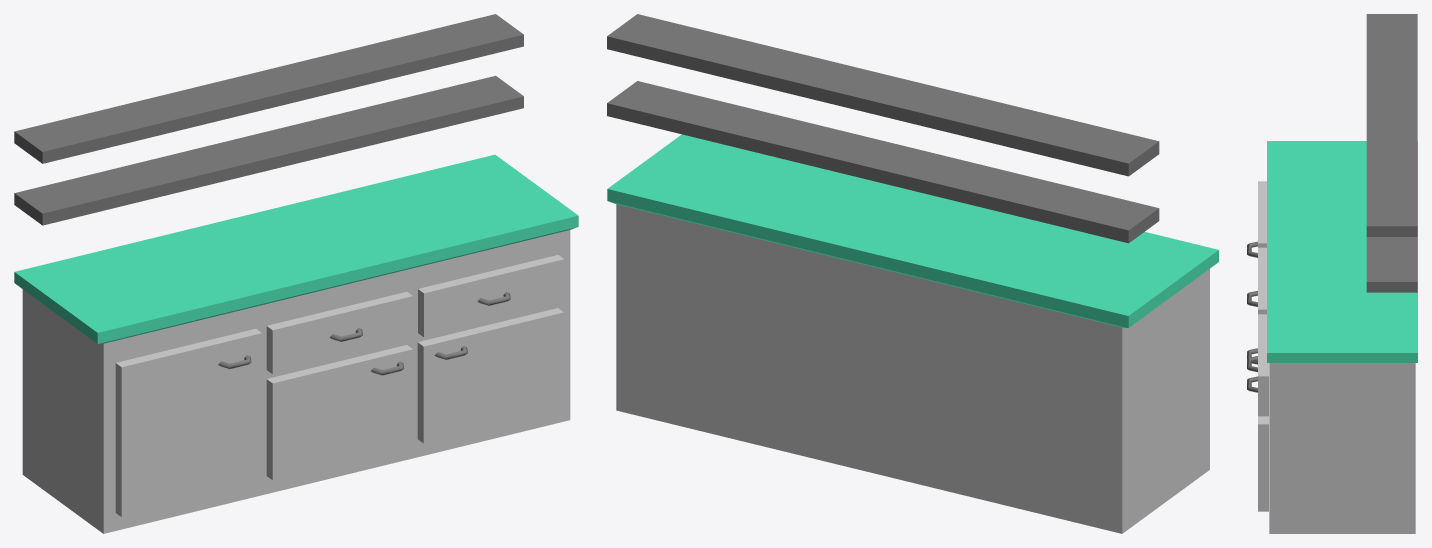
The model's file is mesalateral.fbx.
The picture shows the model from 3 angles, left to right: view 1: azimuth 30°, elevation 25°; view 2: azimuth 150°, elevation 25°; view 3: azimuth 270°, elevation 25°; orthographic projection. The views are drawn at different scales.
Parts seen in each view (by area): view 1: balcony_center; view 2: balcony_center; view 3: balcony_center.
Part boxes in pixels (bbox=[...]): balcony_center: bbox=[14, 14, 578, 533]; balcony_center: bbox=[607, 14, 1218, 533]; balcony_center: bbox=[1247, 14, 1417, 533].
Size of the model in its own units: 688 by 470 by 234.
